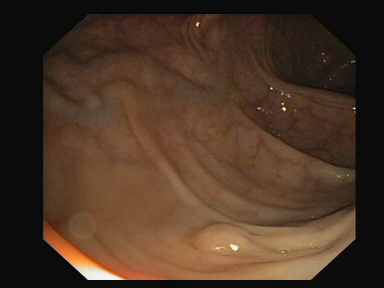polyp: (179, 205, 285, 262), (84, 86, 132, 125)
